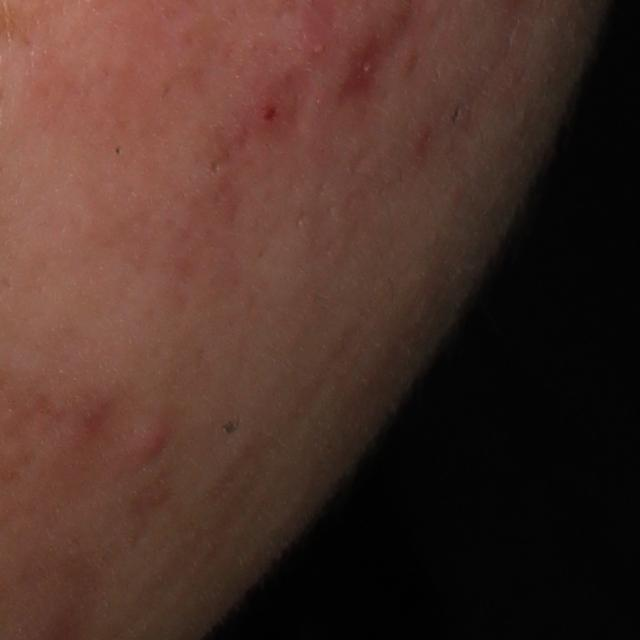papule: (128, 418, 172, 467), (251, 92, 293, 134)
